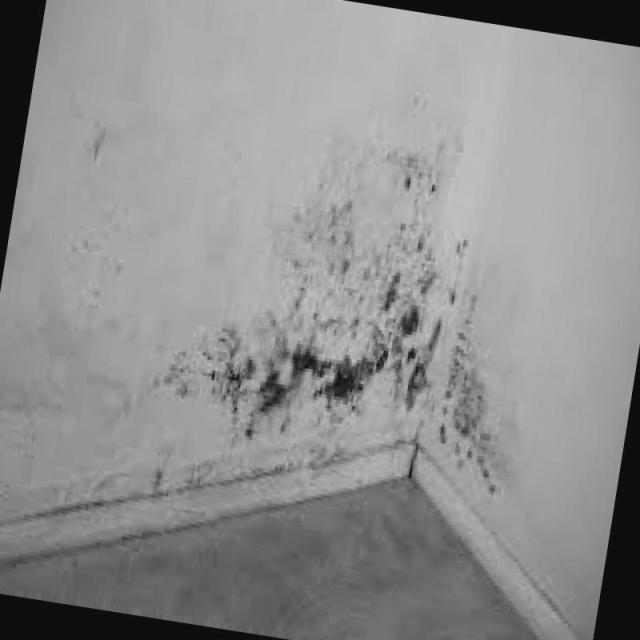stain marks: (82, 156, 522, 510)
